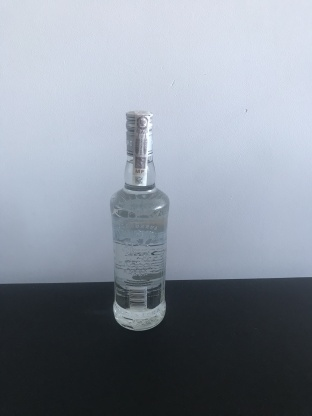nakretka: (123, 107, 156, 157)
